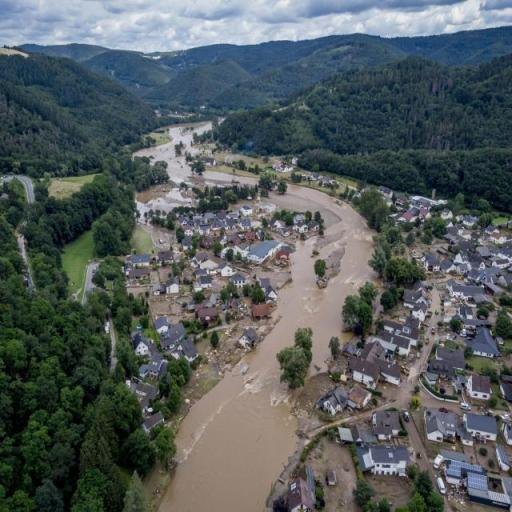flood: (158, 189, 374, 512), (136, 125, 258, 185), (193, 122, 212, 132)
house: (359, 444, 409, 480), (358, 340, 397, 370), (423, 409, 455, 443), (428, 346, 463, 376), (247, 240, 284, 268), (371, 406, 401, 438), (288, 477, 315, 512), (466, 412, 496, 442), (159, 322, 189, 352), (375, 331, 411, 356), (316, 390, 348, 418), (353, 360, 382, 388), (471, 332, 499, 358), (467, 372, 491, 402), (379, 360, 403, 386), (348, 385, 371, 409), (403, 289, 429, 309), (248, 299, 272, 320), (497, 442, 512, 474), (459, 302, 478, 324), (142, 414, 166, 431), (407, 311, 424, 334), (136, 382, 156, 400), (240, 326, 256, 348), (196, 306, 218, 321), (446, 280, 464, 298), (132, 252, 152, 268), (134, 335, 150, 355), (410, 196, 432, 210), (129, 269, 149, 284), (190, 252, 208, 268), (156, 251, 174, 267), (424, 254, 440, 272), (501, 419, 512, 444), (147, 356, 160, 377), (184, 342, 198, 361), (384, 319, 402, 333), (154, 316, 168, 334), (491, 255, 510, 268), (230, 273, 246, 288), (165, 279, 180, 294), (221, 262, 237, 276), (441, 258, 455, 274), (490, 232, 508, 244), (204, 294, 218, 308), (468, 268, 482, 282), (379, 187, 394, 199), (266, 286, 278, 300), (402, 211, 416, 223), (229, 233, 242, 245), (200, 275, 212, 287), (241, 204, 253, 216), (274, 164, 292, 172), (463, 215, 475, 227), (199, 223, 210, 236), (204, 157, 218, 167), (440, 209, 452, 220), (241, 218, 251, 231), (182, 237, 192, 250), (486, 226, 500, 235), (183, 226, 194, 237), (298, 222, 308, 234), (202, 236, 212, 248), (293, 214, 306, 223), (309, 221, 319, 232), (270, 218, 281, 228), (178, 216, 189, 226), (218, 235, 228, 246), (204, 213, 214, 224), (226, 219, 236, 229), (458, 264, 468, 274), (246, 231, 255, 242), (322, 175, 331, 186), (308, 172, 320, 180), (193, 216, 202, 226), (212, 220, 221, 230)
